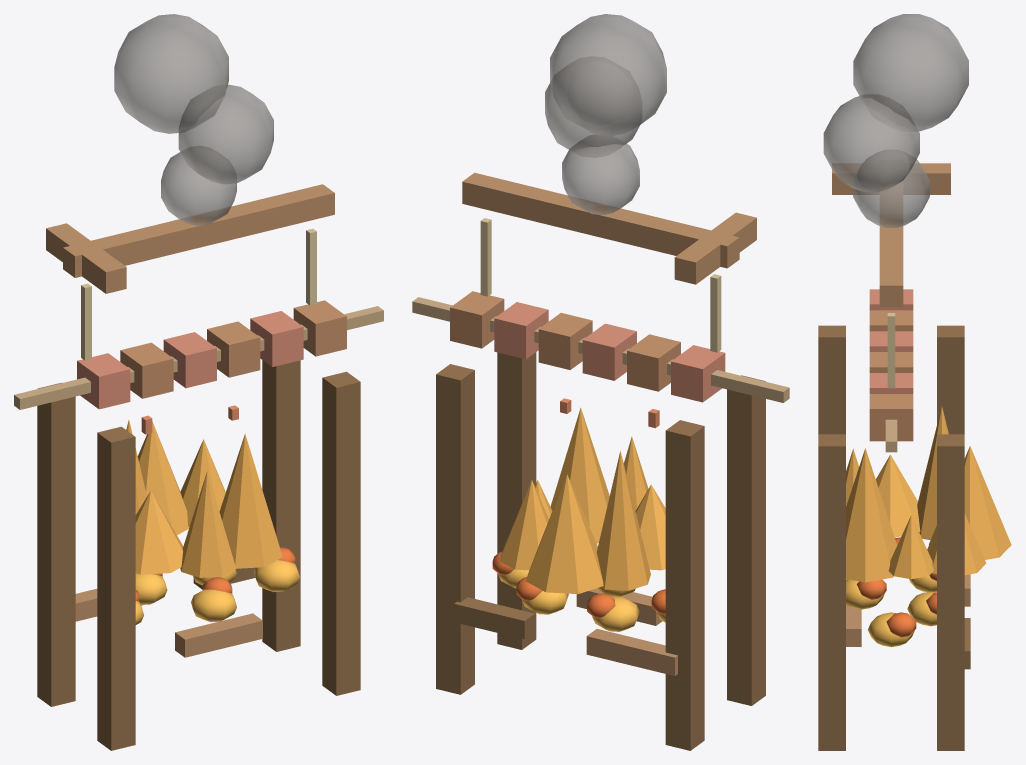
The model's file is spit_roast.glb.
The picture shows the model from 3 angles, left to right: view 1: azimuth 30°, elevation 25°; view 2: azimuth 150°, elevation 25°; view 3: azimuth 270°, elevation 25°; orthographic projection. The views are drawn at different scales.
Parts seen in each view (by area): view 1: spit_roast_root; view 2: spit_roast_root; view 3: spit_roast_root.
Boxes of the visible parts, bbox=[...] form: spit_roast_root: bbox=[14, 14, 383, 750]; spit_roast_root: bbox=[412, 14, 789, 750]; spit_roast_root: bbox=[818, 14, 1011, 750].
Bounding box in the file's own units: 1.02 × 1.8 × 0.4755.
